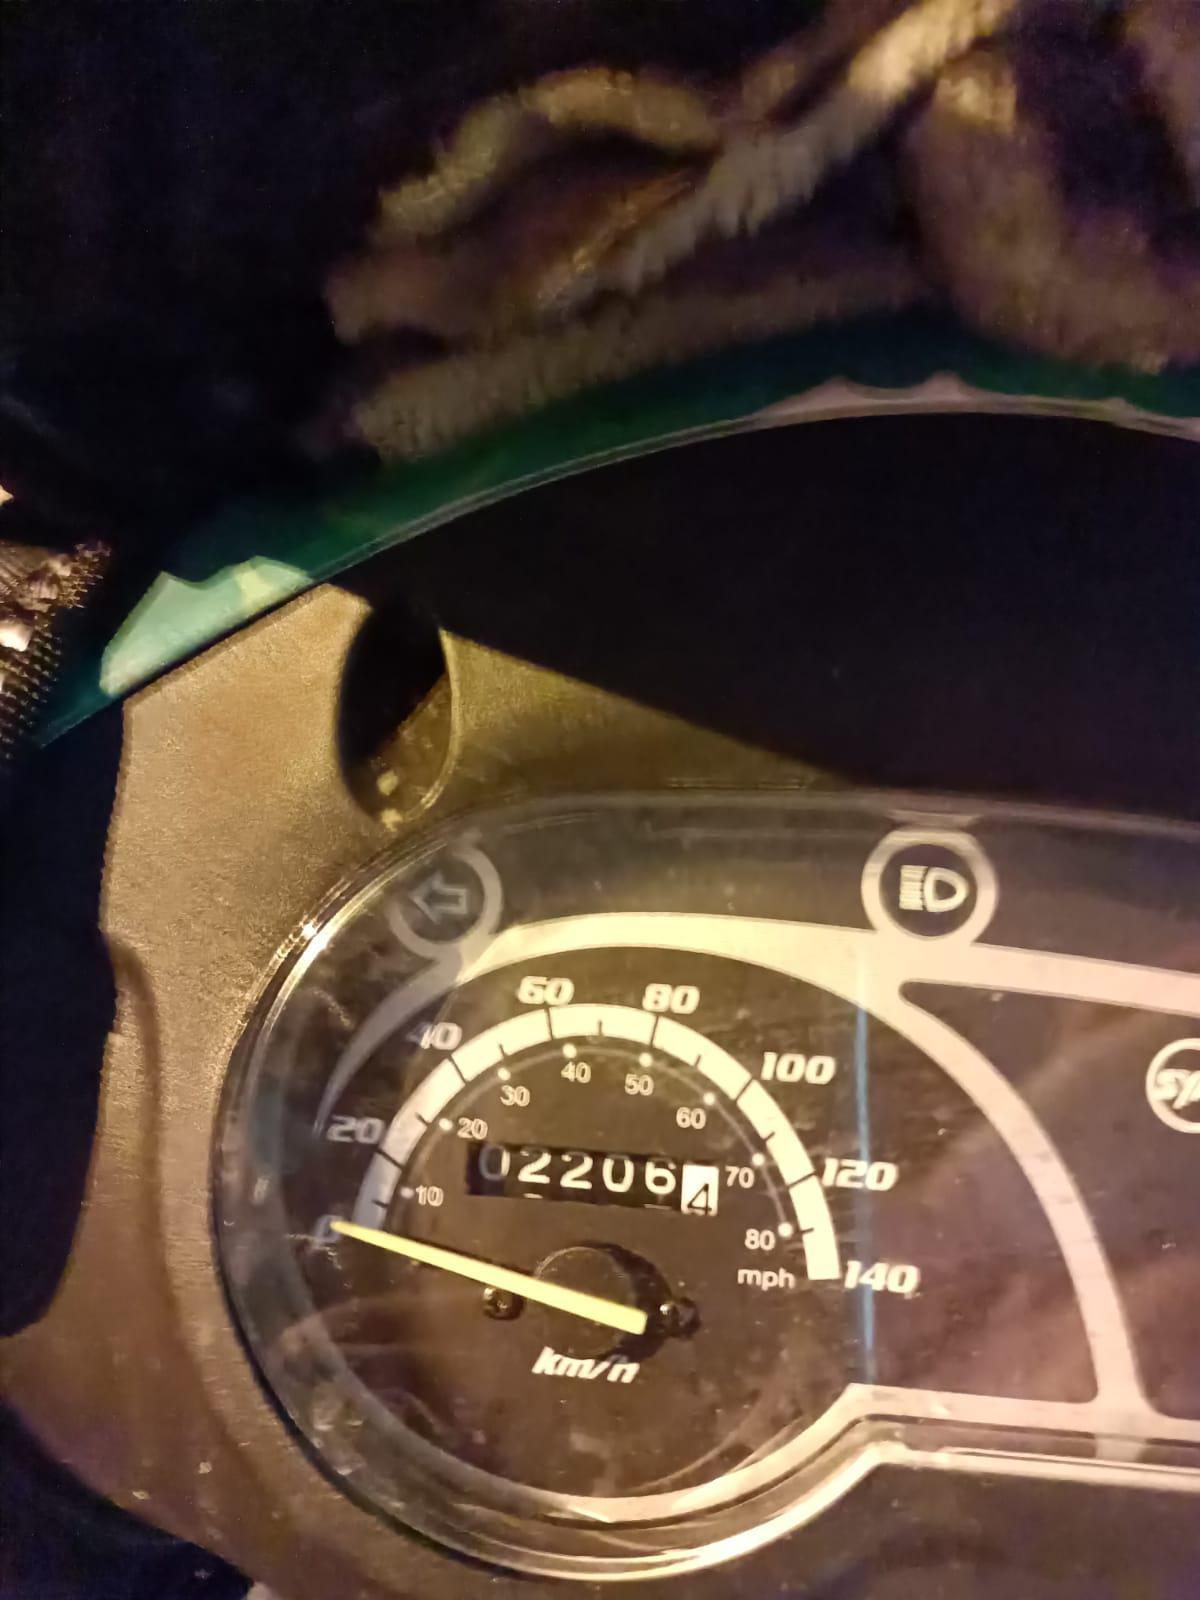0: (478, 1140, 513, 1184), (603, 1149, 637, 1194)
2: (558, 1144, 597, 1197), (517, 1141, 555, 1191)
4: (684, 1177, 718, 1216)
6: (643, 1150, 678, 1198)
odometer: (463, 1136, 726, 1223)
